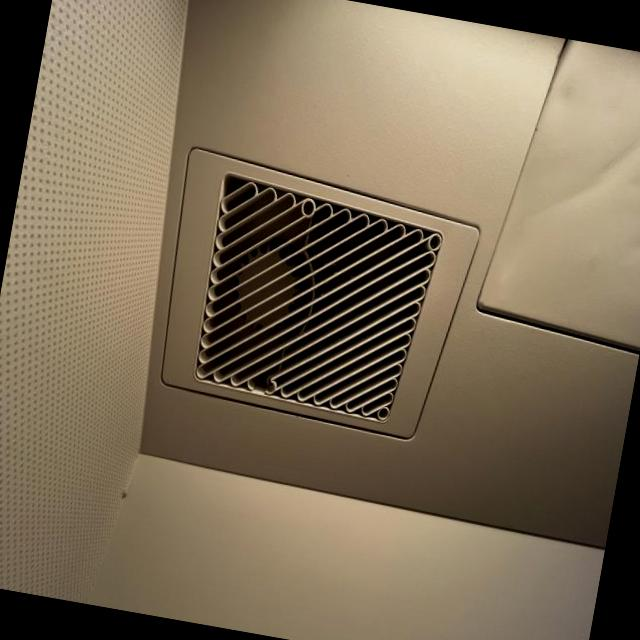dent: (505, 72, 640, 251), (543, 64, 598, 130), (611, 232, 640, 284)
